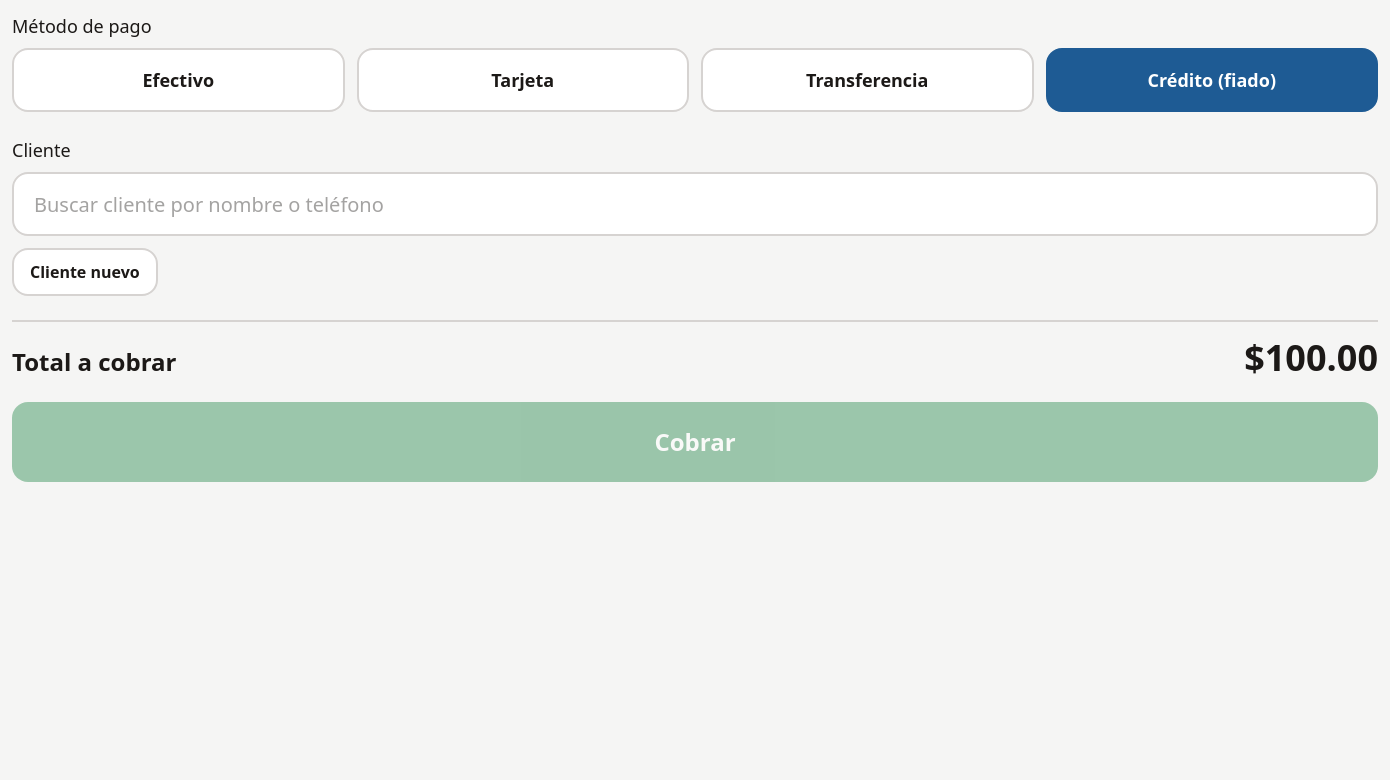
Test: PaymentPanel — Crédito (fiado) › crea un cliente rápido con nombre y teléfono cuando no existe
Step 1. Click the button "Cliente nuevo" → (85, 272), box left=12, top=248, right=158, bottom=296
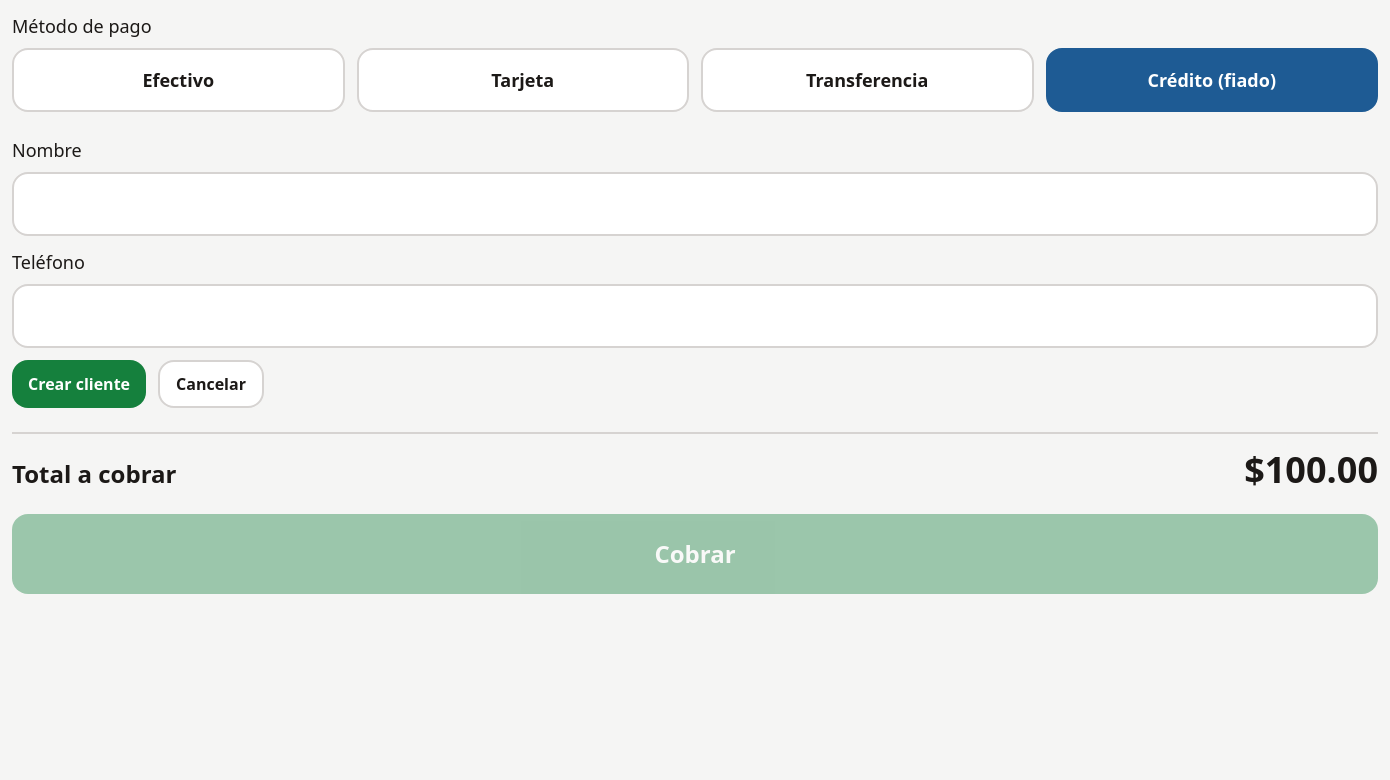
Step 2. Type "Cliente nuevo" into the field labelled "Nombre" → (695, 204), box left=12, top=172, right=1378, bottom=236
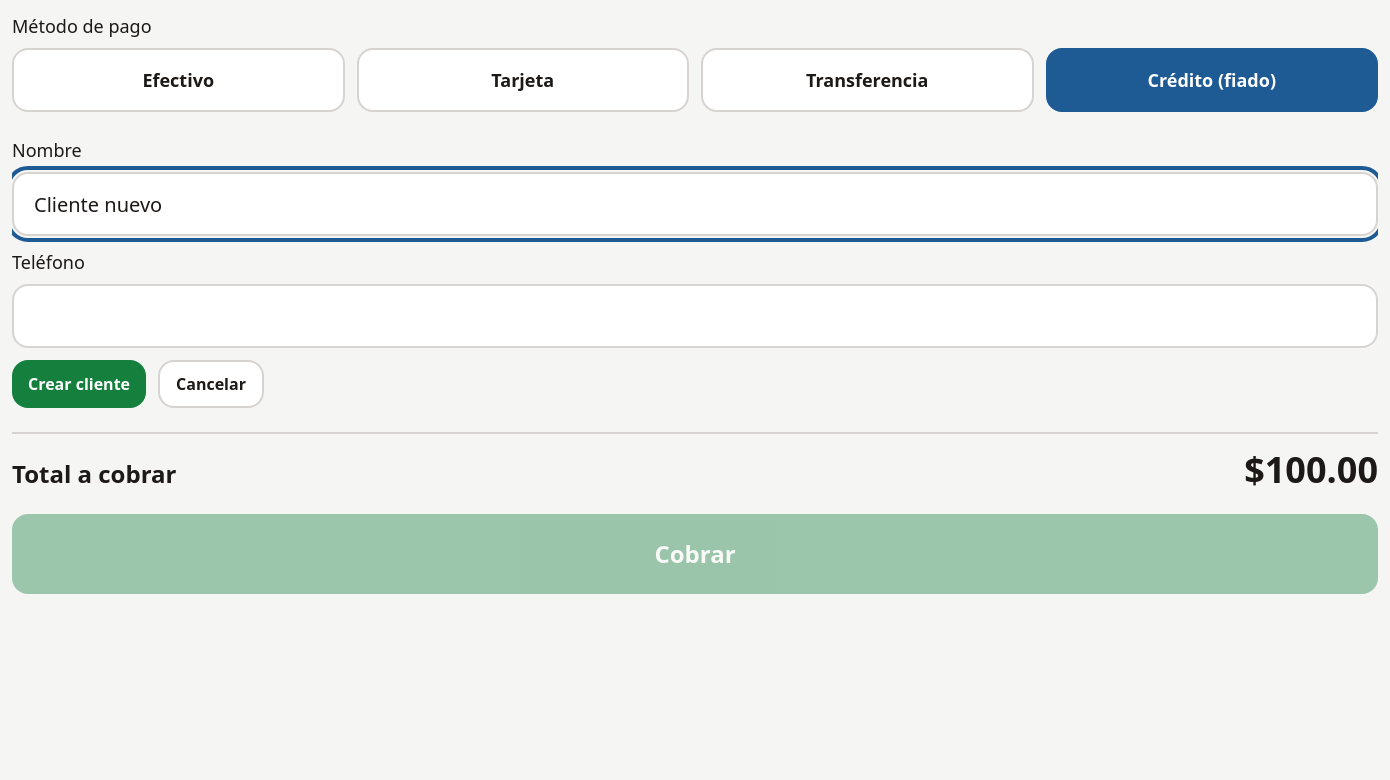
Step 3. Type "5550001111" into the field labelled "Teléfono" → (695, 316), box left=12, top=284, right=1378, bottom=348
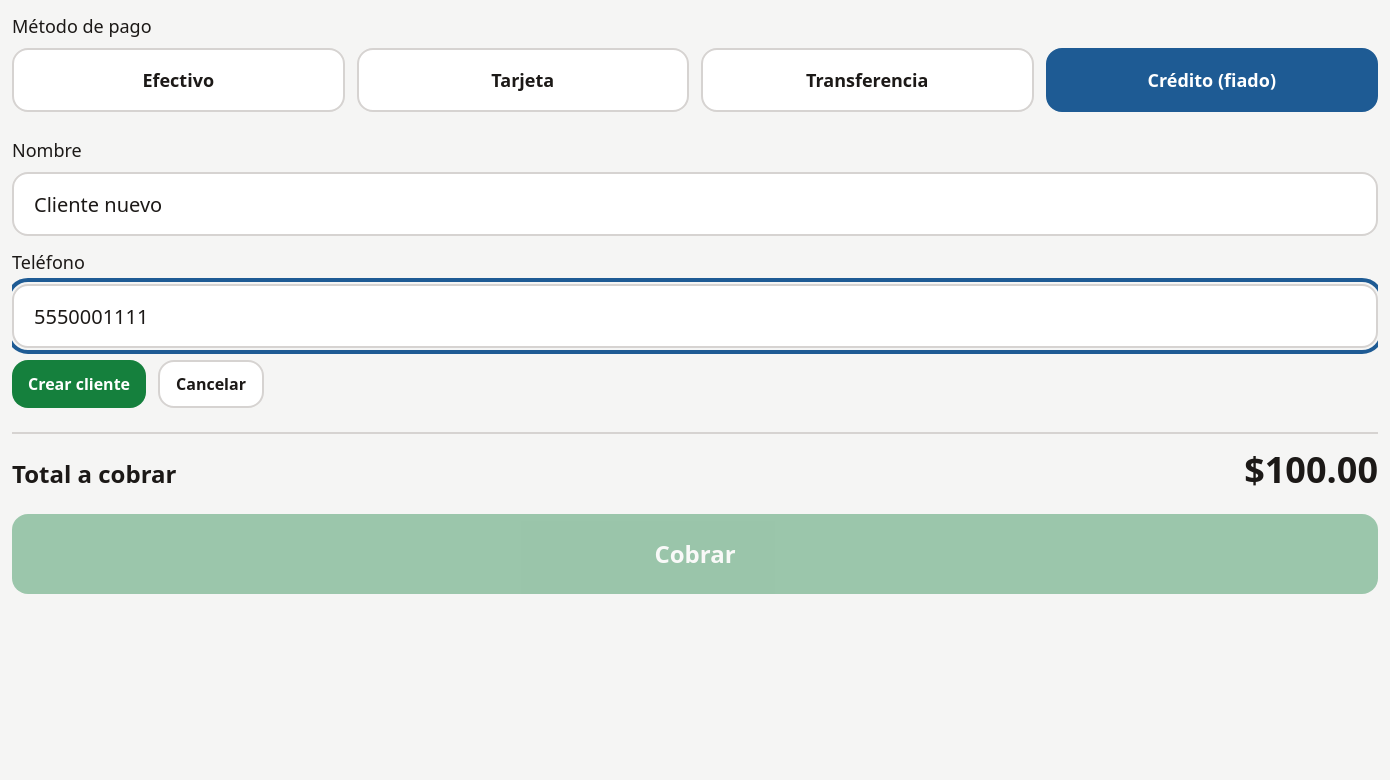
Step 4. Click the button "Crear cliente" → (79, 384), box left=12, top=360, right=146, bottom=408
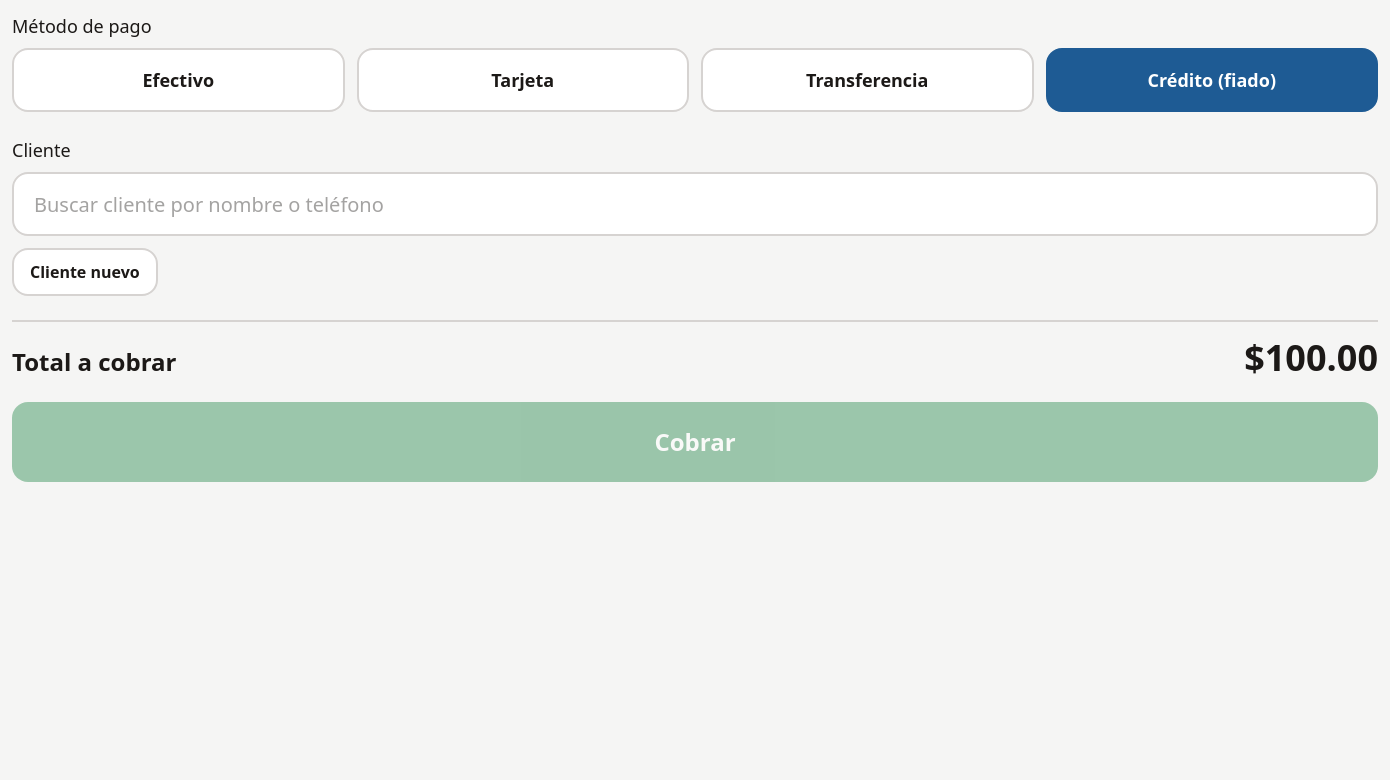
expect the button "Cliente nuevo" is shown: met, box left=12, top=248, right=158, bottom=296
